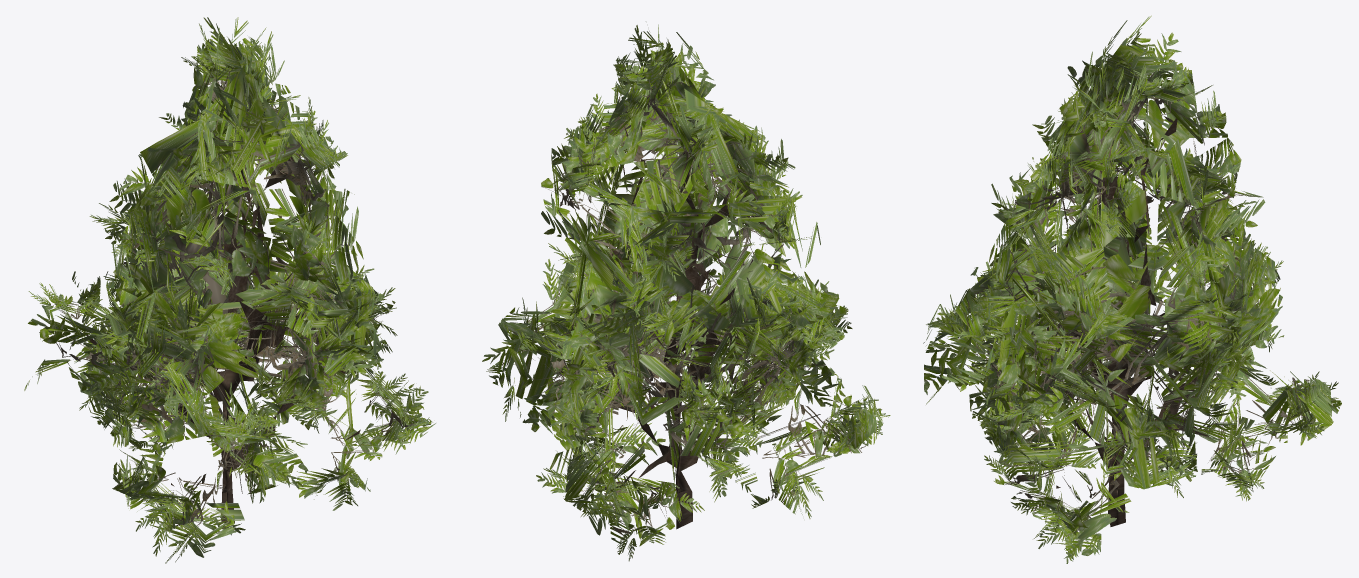
Rendered from tree_lp1.glb.
3 views of the same model, side by side, from view 1: azimuth 30°, elevation 25°; view 2: azimuth 150°, elevation 25°; view 3: azimuth 270°, elevation 25° (orthographic). The views are drawn at different scales.
Size of the model in its own units: 6.05 by 8.61 by 6.47.
2 materials, 2 textured.
